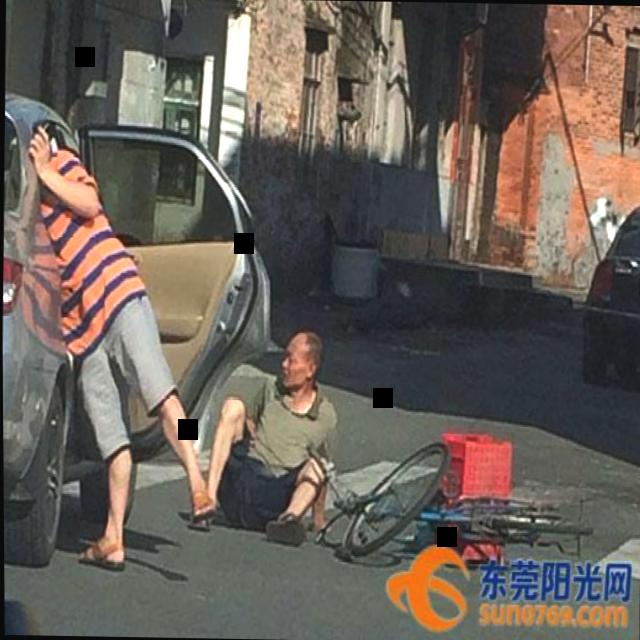Fall-Detected: (182, 311, 346, 549)
